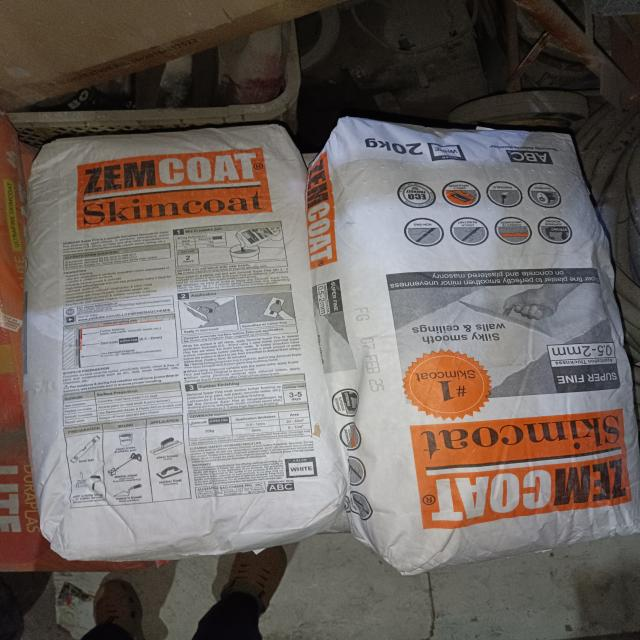Skim coat: (333, 127, 639, 538), (47, 144, 316, 524)
